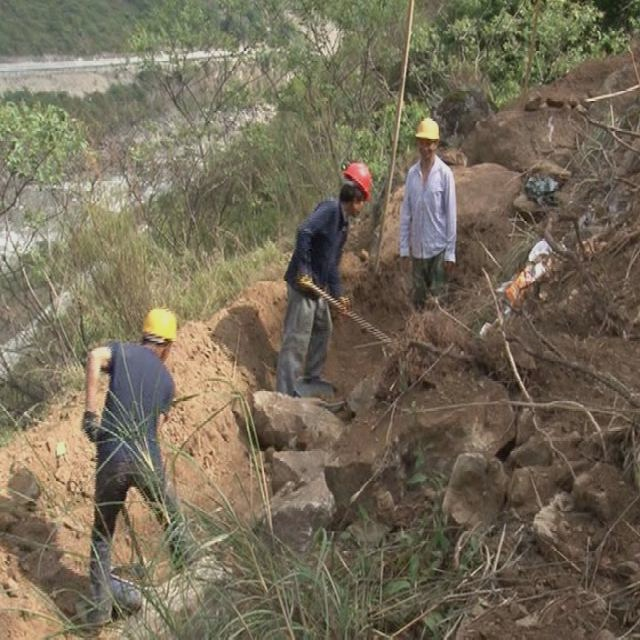Con_Casco: (336, 162, 373, 217), (144, 306, 178, 354), (413, 116, 440, 161)
Sin_Chaleco: (402, 161, 455, 263)
